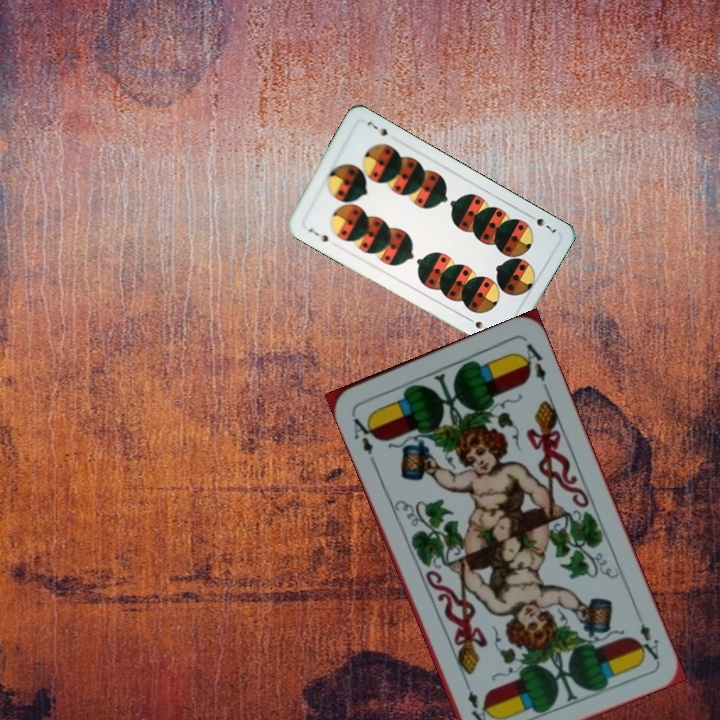EA: (631, 607, 662, 663), (347, 409, 379, 457)
S7: (523, 210, 559, 235), (304, 224, 331, 245)
